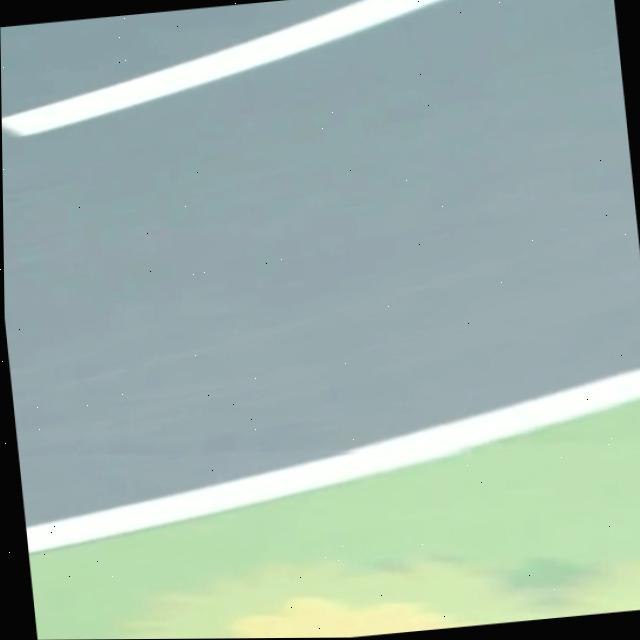center: (2, 0, 436, 135)
right: (25, 368, 640, 552)
